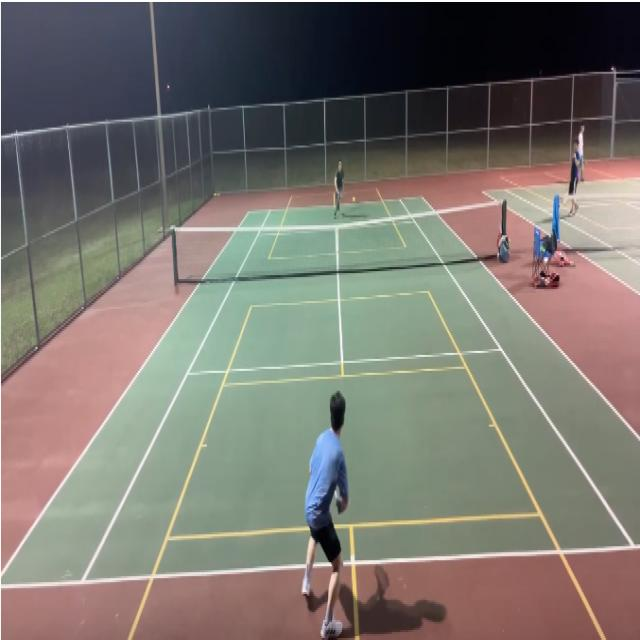ball: (352, 195, 355, 202), (214, 193, 217, 196), (218, 192, 220, 196)
